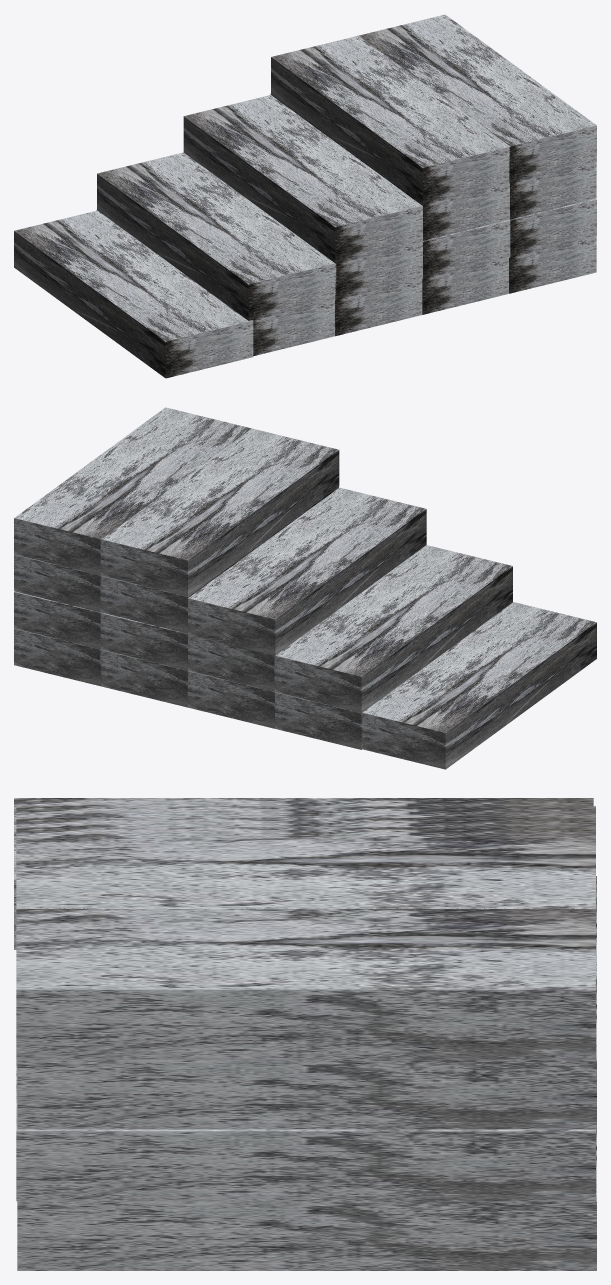
The model's file is Steps6.fbx.
3 renders of one model, top to bottom at view 1: azimuth 30°, elevation 25°; view 2: azimuth 150°, elevation 25°; view 3: azimuth 270°, elevation 25°, orthographic. The views are drawn at different scales.
Visible parts, largest first — view 1: Cube.013; view 2: Cube.013; view 3: Cube.013.
Part boxes in pixels (x1,y1,x2,y2): Cube.013: (14,14,596,378); Cube.013: (14,407,596,769); Cube.013: (14,798,596,1270).
Size of the model in its own units: 986 by 321 by 604.
1 material, 1 textured.
